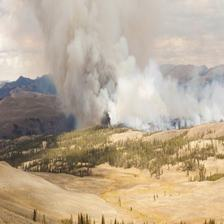fire: (66, 55, 146, 133)
